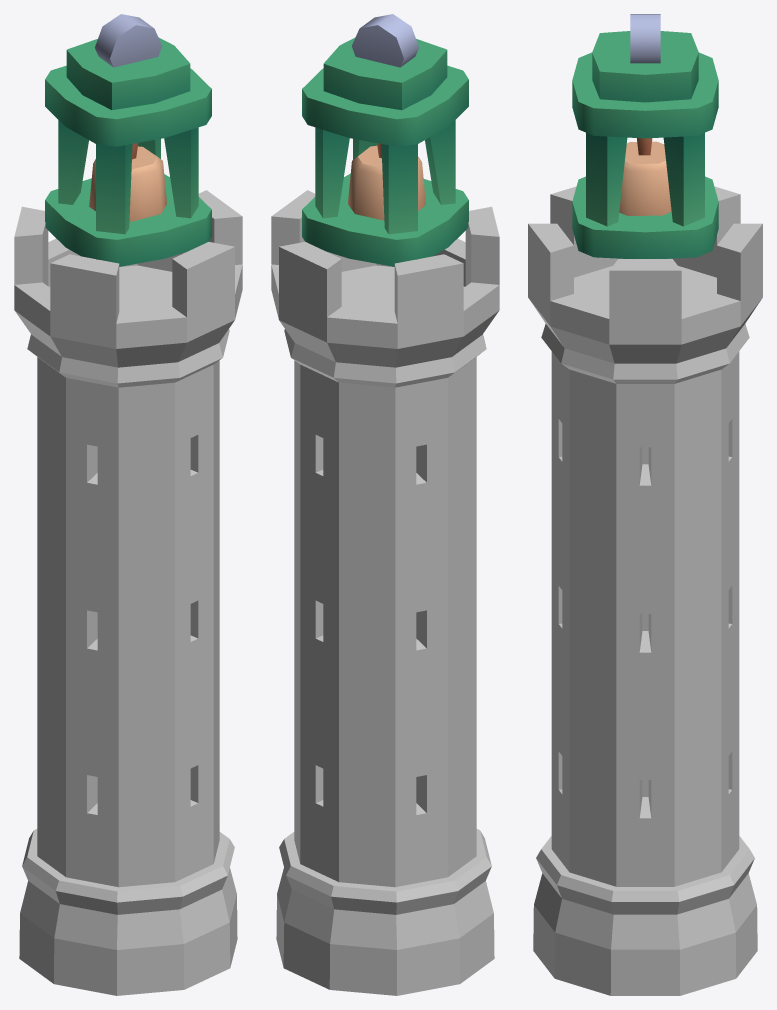
Rendered from london_bld_lighthouse.glb.
The picture shows the model from 3 angles, left to right: view 1: azimuth 30°, elevation 25°; view 2: azimuth 150°, elevation 25°; view 3: azimuth 270°, elevation 25°; orthographic projection.
Visible parts, largest first — view 1: LargeTower_Cylinder.002, lantern-candle; view 2: LargeTower_Cylinder.002, lantern-candle; view 3: LargeTower_Cylinder.002, lantern-candle.
Boxes of the visible parts, box(x1,y1,x2,y2) form: LargeTower_Cylinder.002: box(14, 190, 242, 995); lantern-candle: box(45, 14, 211, 266); LargeTower_Cylinder.002: box(271, 190, 499, 995); lantern-candle: box(302, 14, 468, 266); LargeTower_Cylinder.002: box(528, 186, 762, 995); lantern-candle: box(572, 14, 718, 258).
Bounding box in the file's own units: 5.13 × 23.73 × 5.4.
Materials: 2 (1 with a texture image).
